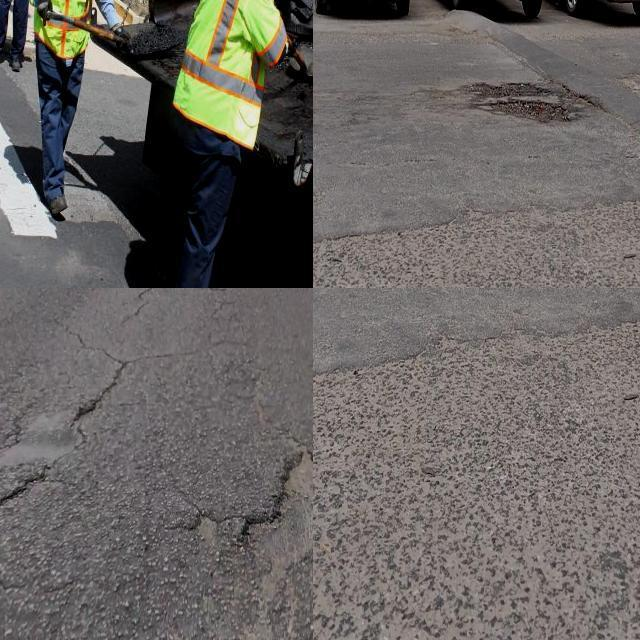Pothole: (241, 443, 313, 571), (468, 83, 567, 126)
